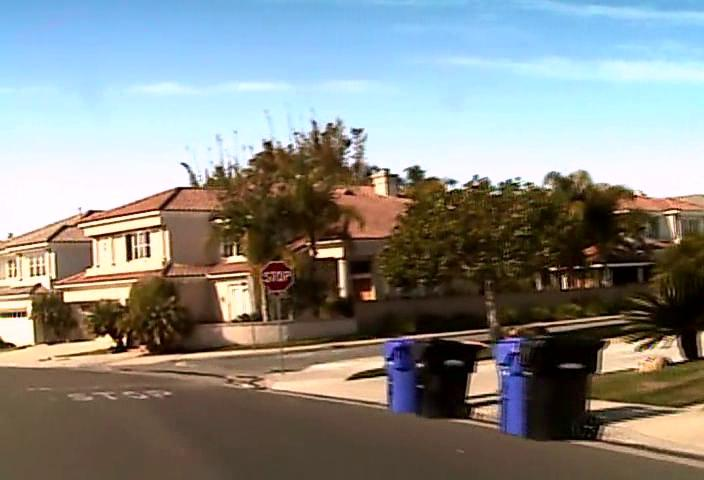stop: (259, 260, 294, 293)
